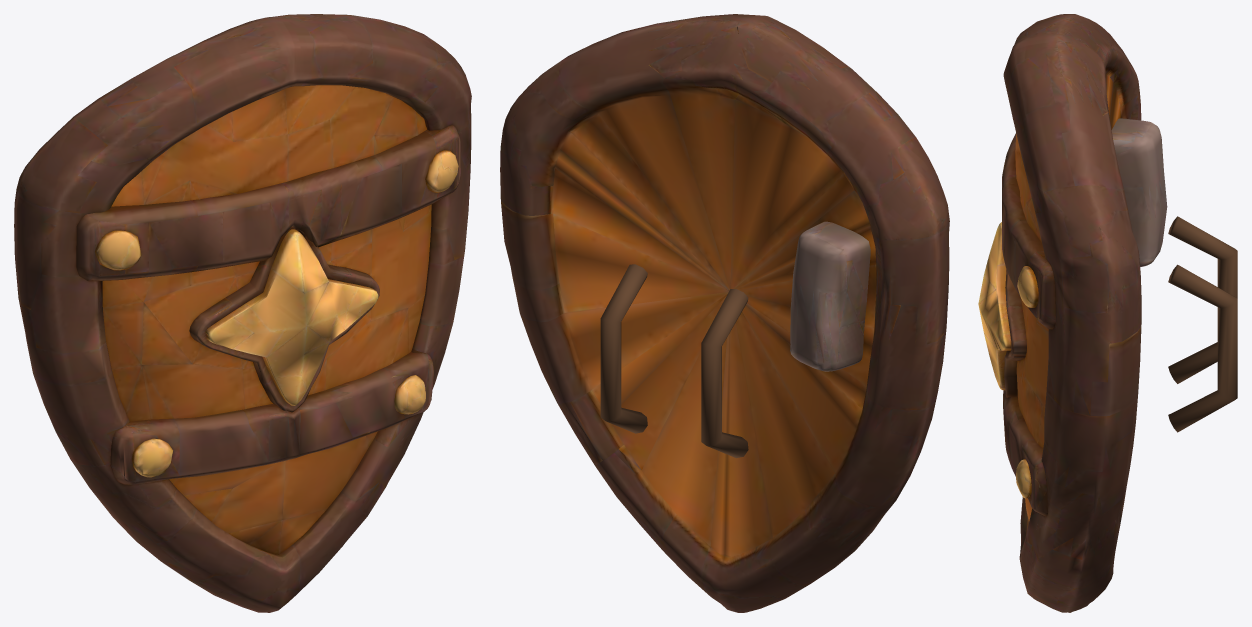
Rendered from shared-shield.web.glb.
3 renders of one model, left to right at view 1: azimuth 30°, elevation 25°; view 2: azimuth 150°, elevation 25°; view 3: azimuth 270°, elevation 25°, orthographic. The views are drawn at different scales.
Visible parts, largest first — view 1: WeaponMesh; view 2: WeaponMesh, Shield forearm grip.001, Shield forearm grip; view 3: WeaponMesh, Shield forearm grip.001, Shield forearm grip.
Boxes of the visible parts, bbox=[...] form: WeaponMesh: bbox=[14, 14, 471, 612]; WeaponMesh: bbox=[500, 14, 949, 612]; Shield forearm grip.001: bbox=[600, 264, 647, 433]; Shield forearm grip: bbox=[701, 289, 748, 458]; WeaponMesh: bbox=[978, 14, 1167, 612]; Shield forearm grip.001: bbox=[1168, 264, 1237, 432]; Shield forearm grip: bbox=[1168, 216, 1237, 383].
Bounding box in the file's own units: 0.5002 × 0.64 × 0.2613.
Materials: 3 (2 with a texture image).
